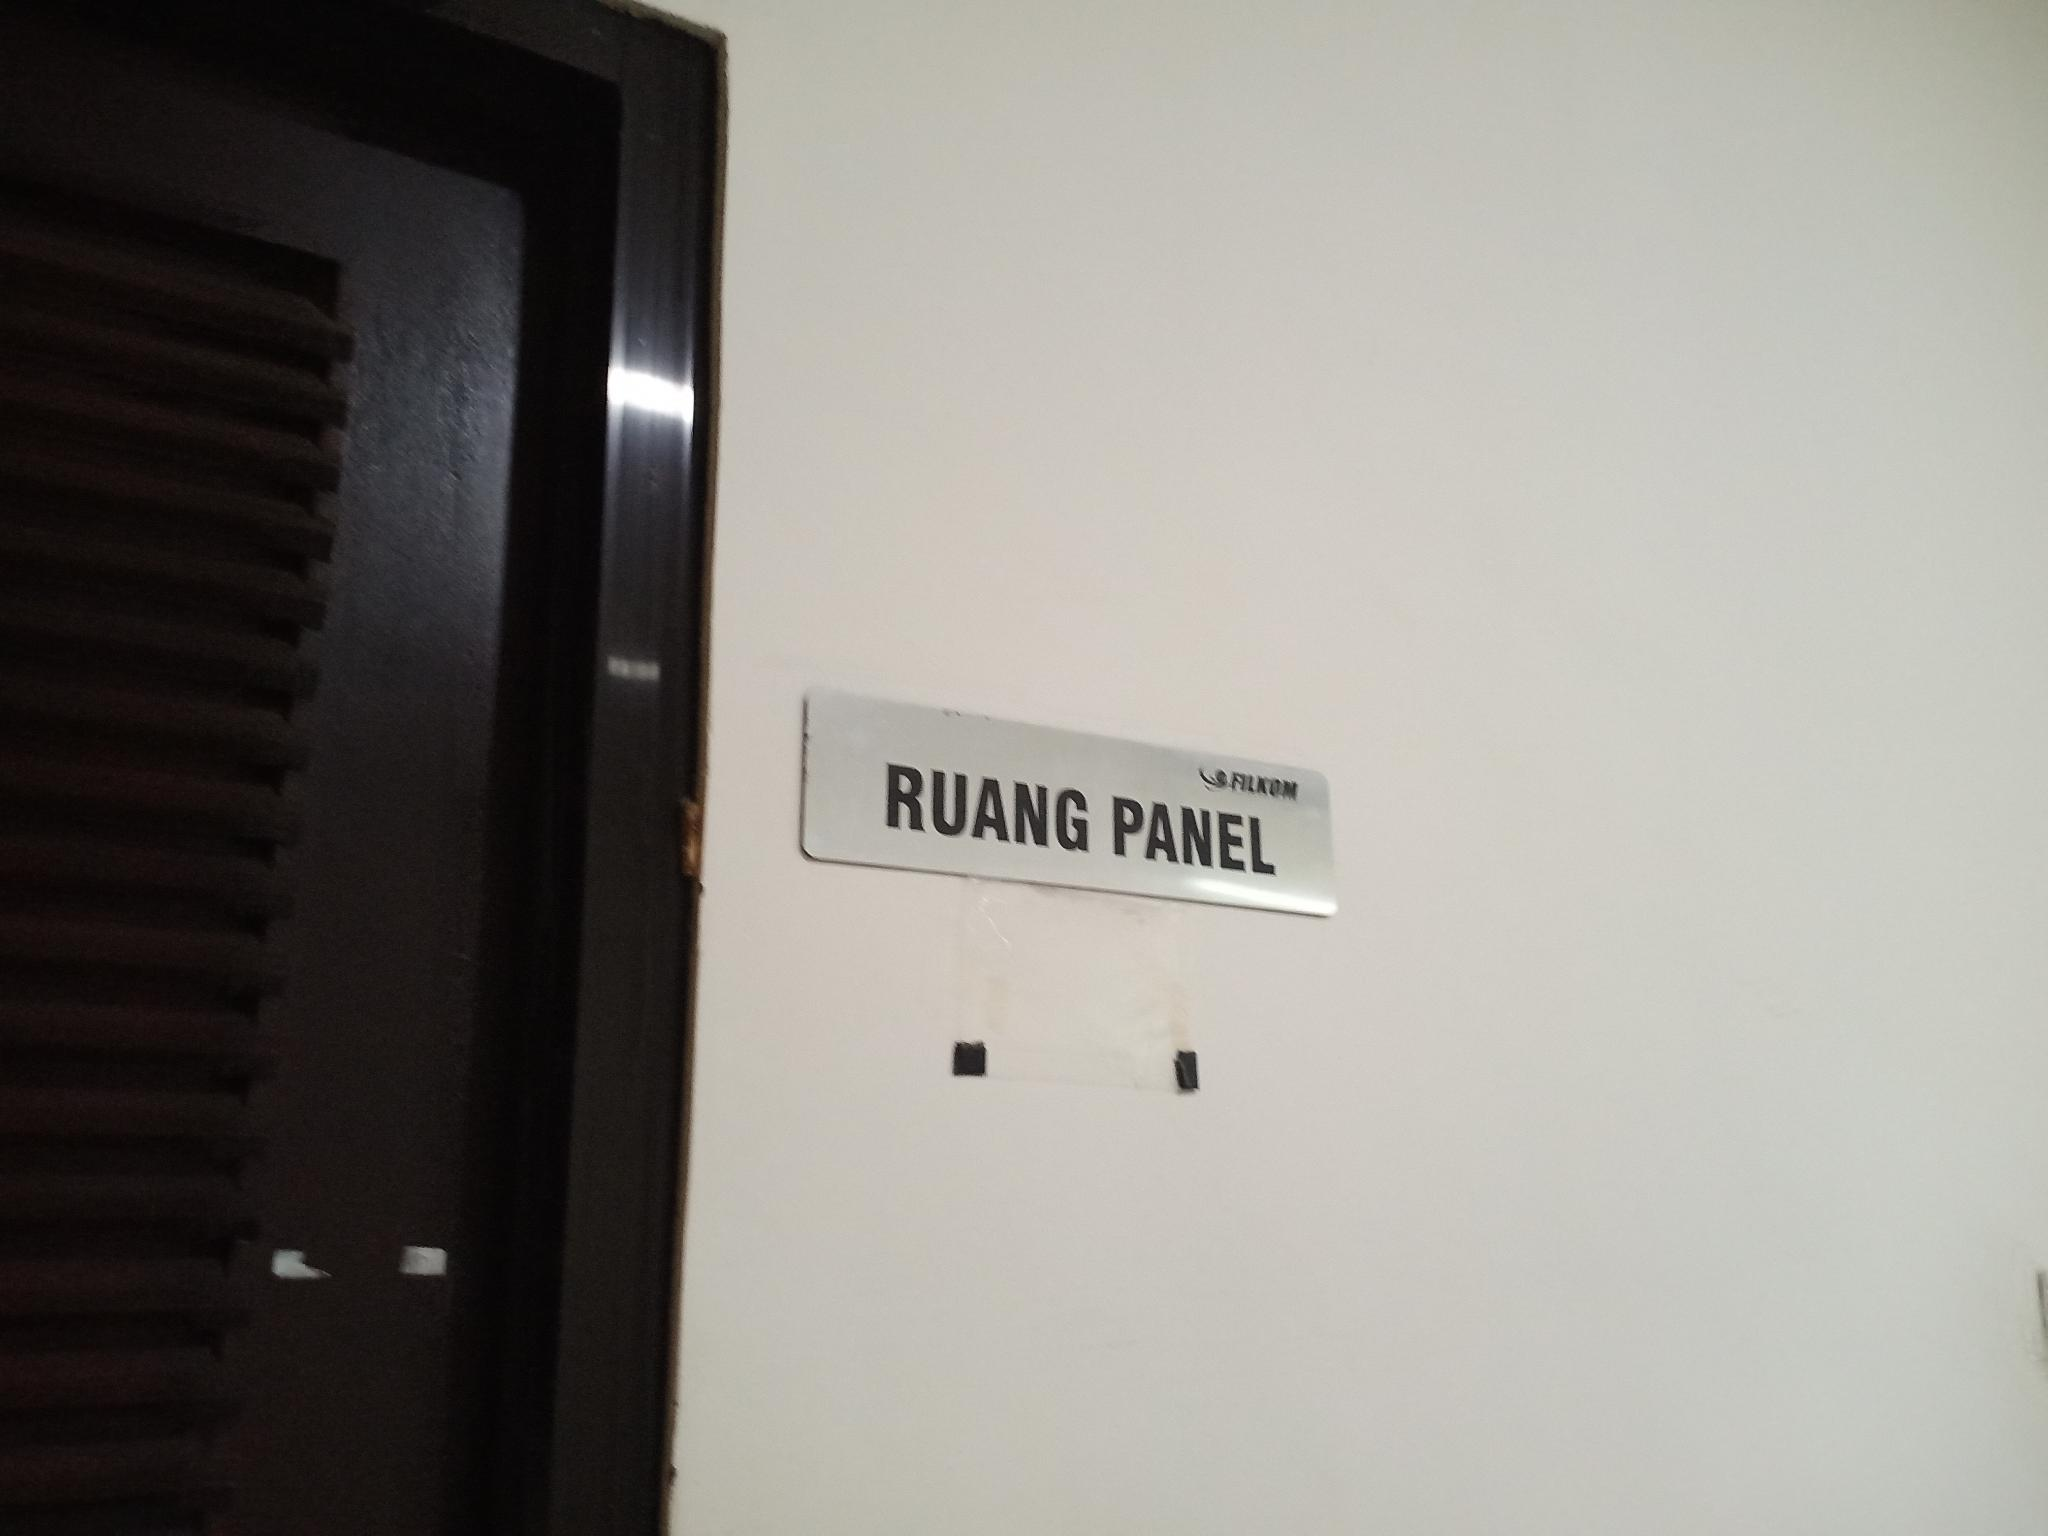plate: (798, 681, 1340, 920)
